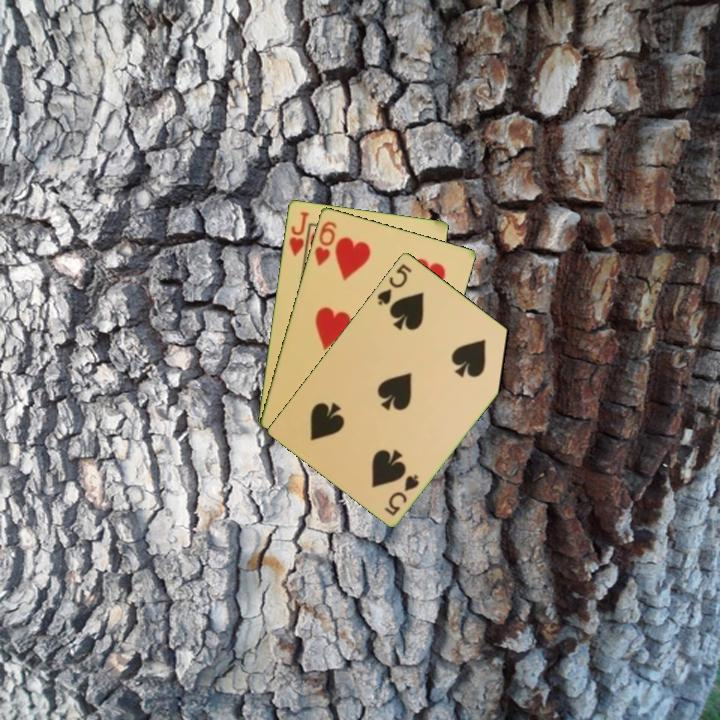5s: (373, 260, 415, 308), (381, 470, 422, 519)
6h: (311, 217, 339, 269)
Jh: (285, 208, 312, 264)
